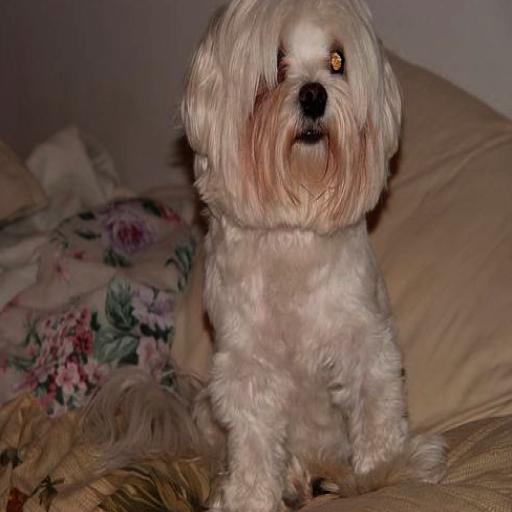dog_face: (175, 0, 397, 225)
